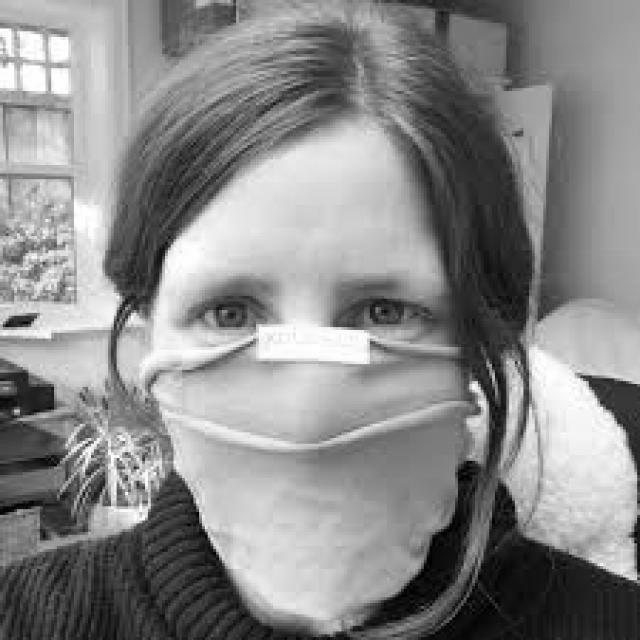fake: (137, 325, 478, 640)
real: (147, 118, 480, 640)
